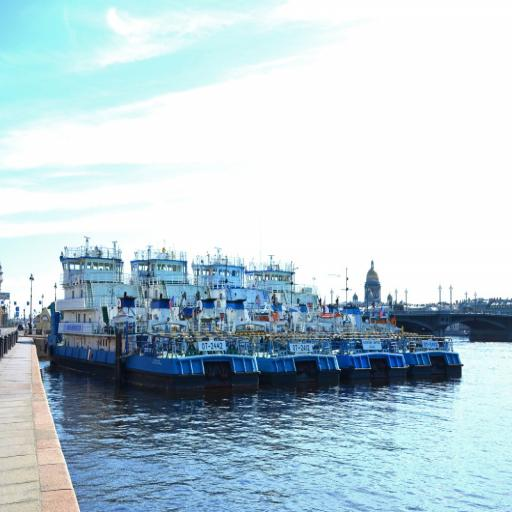tugboat: (47, 230, 265, 403)
